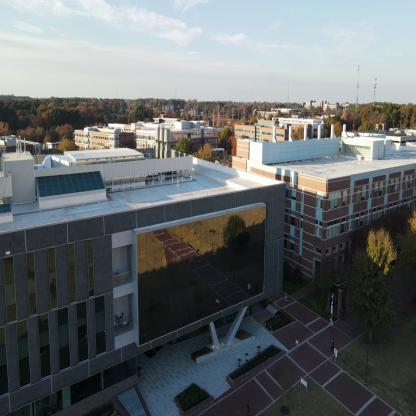EB-1: (284, 158, 416, 278)
Fitts- Woolard: (4, 145, 277, 388)
